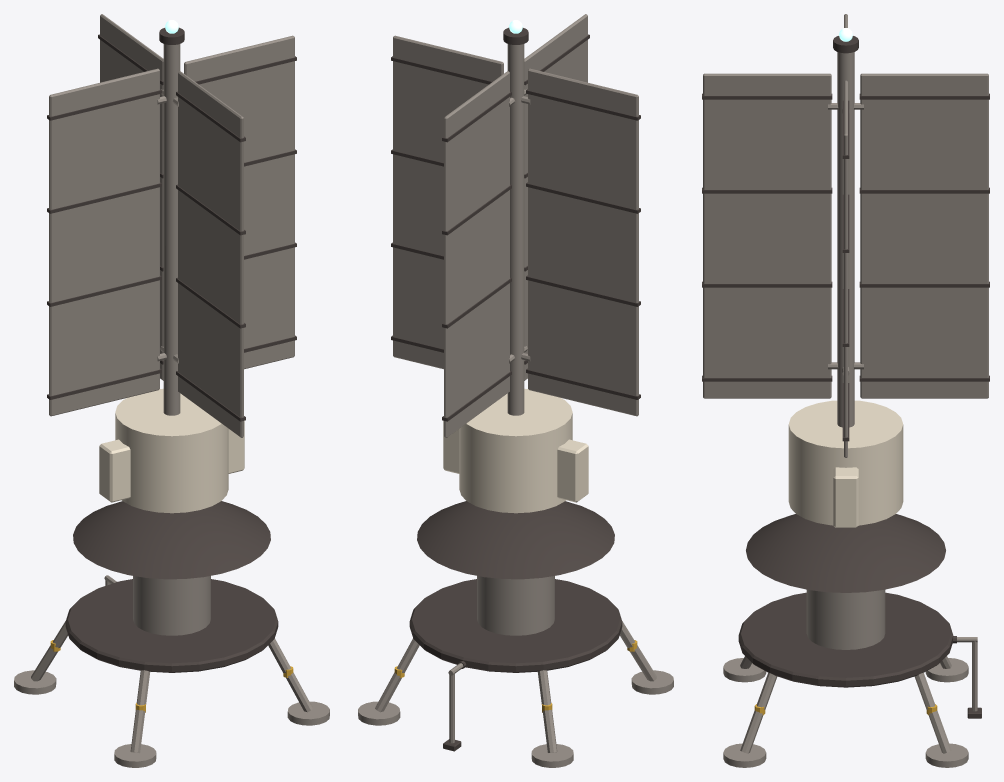
Rendered from building_reactor.glb.
The picture shows the model from 3 angles, left to right: view 1: azimuth 30°, elevation 25°; view 2: azimuth 150°, elevation 25°; view 3: azimuth 270°, elevation 25°; orthographic projection.
Visible parts, largest first — view 1: body-col; view 2: body-col, detail-col; view 3: body-col, detail-col.
Boxes of the visible parts, x1,y1,x2,y2 form: body-col: (14, 14, 329, 767); body-col: (358, 14, 673, 767); detail-col: (448, 661, 466, 743); body-col: (702, 14, 989, 767); detail-col: (953, 636, 977, 711).
Bounding box in the file's own units: 4.02 × 10.6 × 4.02.
